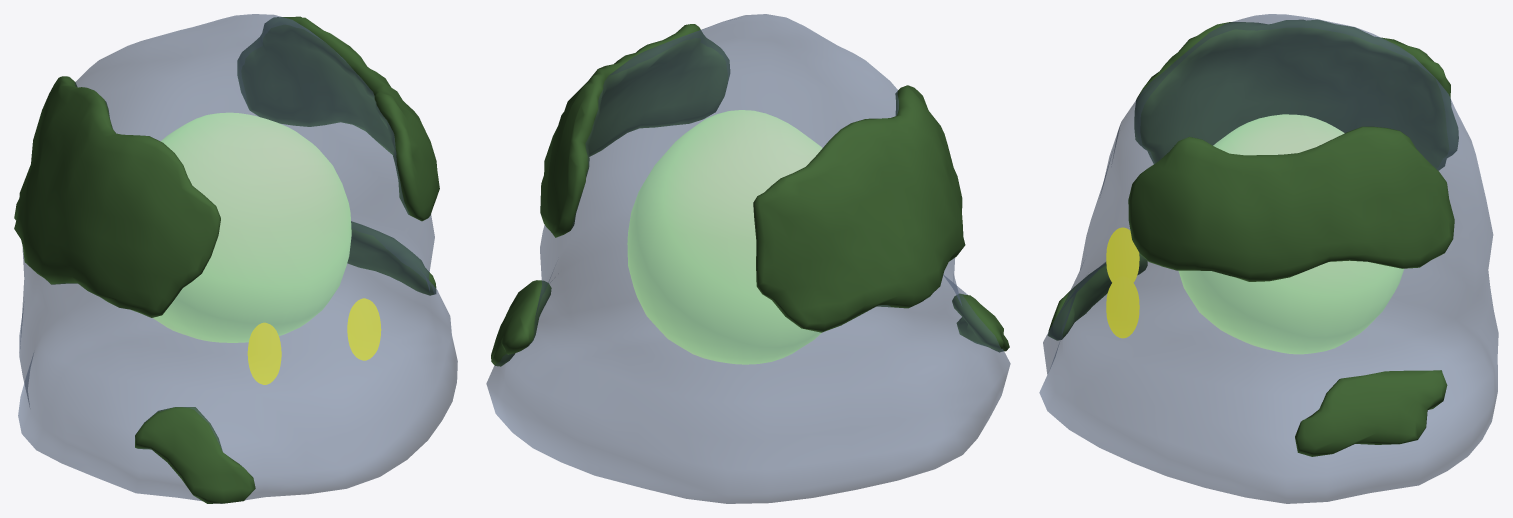
Rendered from BabroMonster.fbx.
The picture shows the model from 3 angles, left to right: view 1: azimuth 30°, elevation 25°; view 2: azimuth 150°, elevation 25°; view 3: azimuth 270°, elevation 25°; orthographic projection. The views are drawn at different scales.
Visible parts, largest first — view 1: Main Body, Moss, Inner Ball, Sphere; view 2: Main Body, Moss, Inner Ball; view 3: Main Body, Moss, Inner Ball, Sphere.
Part boxes in pixels (x1,y1,x2,y2): Main Body: (18, 14, 457, 503); Moss: (14, 16, 439, 503); Inner Ball: (153, 112, 351, 342); Sphere: (247, 298, 381, 384); Main Body: (486, 14, 1010, 503); Moss: (491, 24, 1009, 366); Inner Ball: (627, 110, 822, 364); Main Body: (1039, 14, 1498, 503); Moss: (1048, 20, 1458, 456); Inner Ball: (1178, 114, 1403, 354); Sphere: (1106, 227, 1139, 338).
Size of the model in its own units: 193 by 159 by 182.
